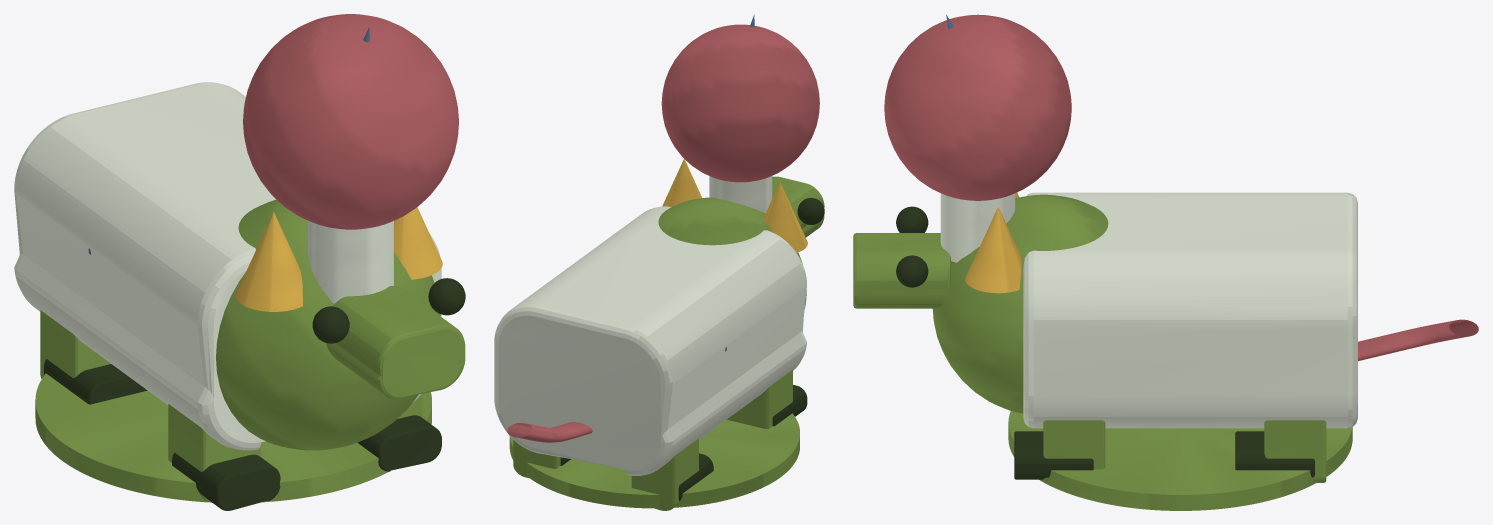
Rendered from 0788_伪装大师图鉴_澳洲幽灵竹节虫.glb.
3 views of the same model, side by side, from view 1: azimuth 30°, elevation 25°; view 2: azimuth 150°, elevation 25°; view 3: azimuth 270°, elevation 25° (orthographic). The views are drawn at different scales.
Parts seen in each view (by area): view 1: card_0788; view 2: card_0788; view 3: card_0788.
Boxes of the visible parts, bbox=[...] form: card_0788: bbox=[14, 14, 465, 510]; card_0788: bbox=[494, 14, 824, 510]; card_0788: bbox=[853, 14, 1478, 510].
Bounding box in the file's own units: 0.7242 × 1 × 1.32.
